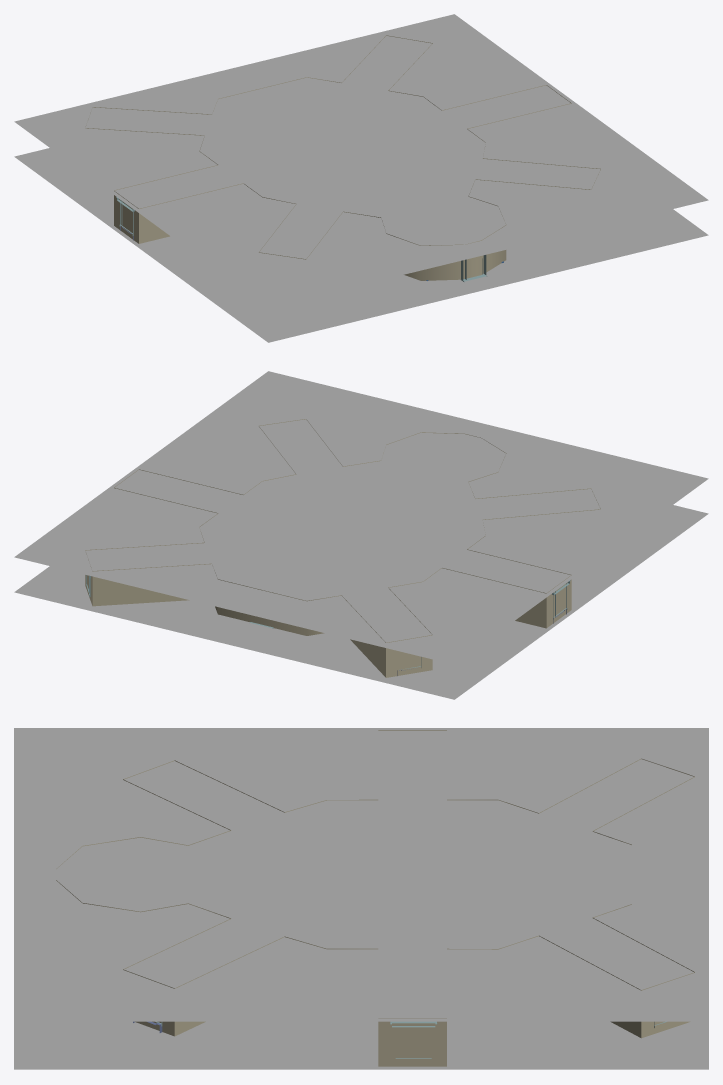
Rendered from Central_Hall_Low.fbx.
The picture shows the model from 3 angles, top to bottom: view 1: azimuth 30°, elevation 25°; view 2: azimuth 150°, elevation 25°; view 3: azimuth 270°, elevation 25°; orthographic projection. The views are drawn at different scales.
Visible parts, largest first — view 1: Ceiling_Low, Floor_Low, Wall_Low; view 2: Ceiling_Low, Floor_Low, Wall_Low; view 3: Ceiling_Low, Floor_Low, Wall_Low.
Part boxes in pixels (bbox=[...]): Ceiling_Low: bbox=[14, 14, 708, 307]; Floor_Low: bbox=[14, 148, 708, 342]; Wall_Low: bbox=[85, 35, 600, 280]; Ceiling_Low: bbox=[14, 371, 708, 664]; Floor_Low: bbox=[14, 505, 708, 699]; Wall_Low: bbox=[85, 419, 600, 677]; Ceiling_Low: bbox=[14, 728, 708, 1021]; Floor_Low: bbox=[14, 1021, 708, 1069]; Wall_Low: bbox=[56, 730, 694, 1066].
Bounding box in the file's own units: 138 × 11.52 × 138.
